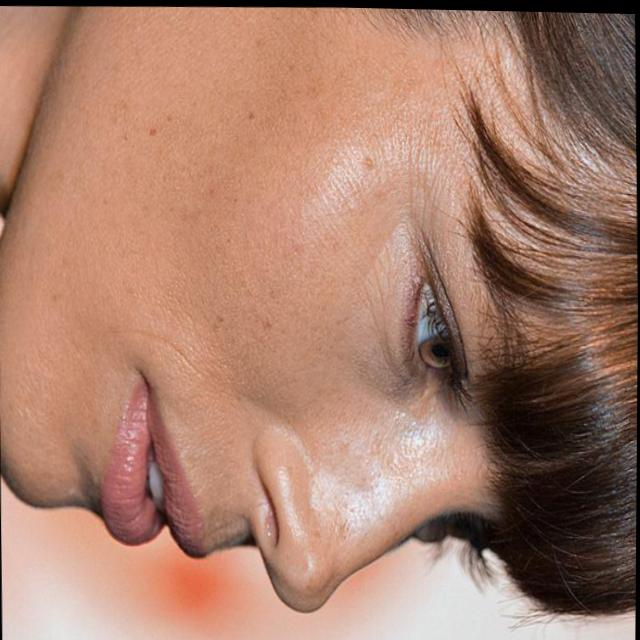Wrinkles: (108, 327, 206, 378)
